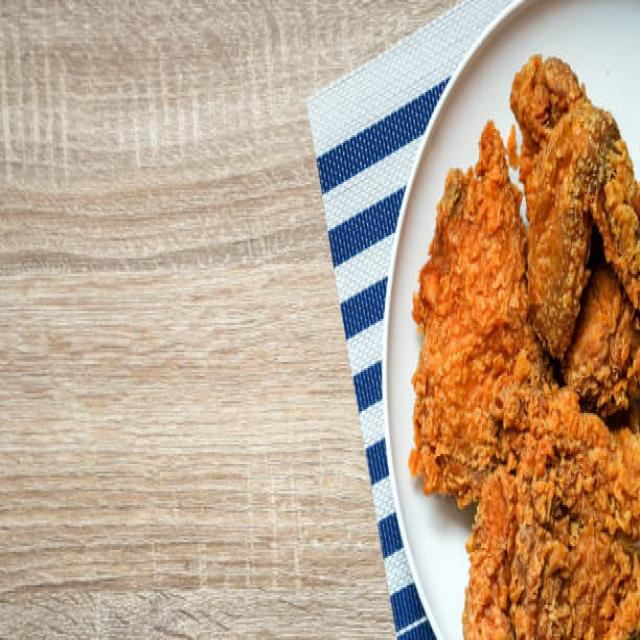Frango: (410, 43, 640, 640)
